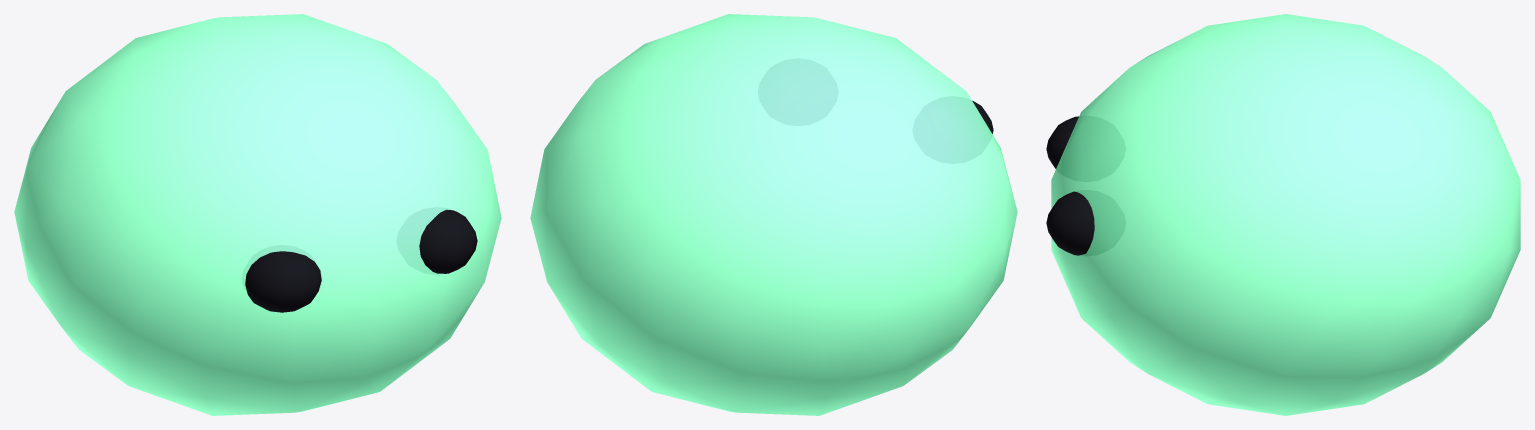
The model's file is lab_slime.glb.
3 renders of one model, left to right at view 1: azimuth 30°, elevation 25°; view 2: azimuth 150°, elevation 25°; view 3: azimuth 270°, elevation 25°, orthographic.
Visible parts, largest first — view 1: core; view 2: core; view 3: core.
Boxes of the visible parts, x1,y1,x2,y2 form: core: (14, 14, 501, 415); core: (530, 14, 1017, 415); core: (1046, 14, 1520, 415).
Bounding box in the file's own units: 1.18 × 0.9403 × 1.19.
